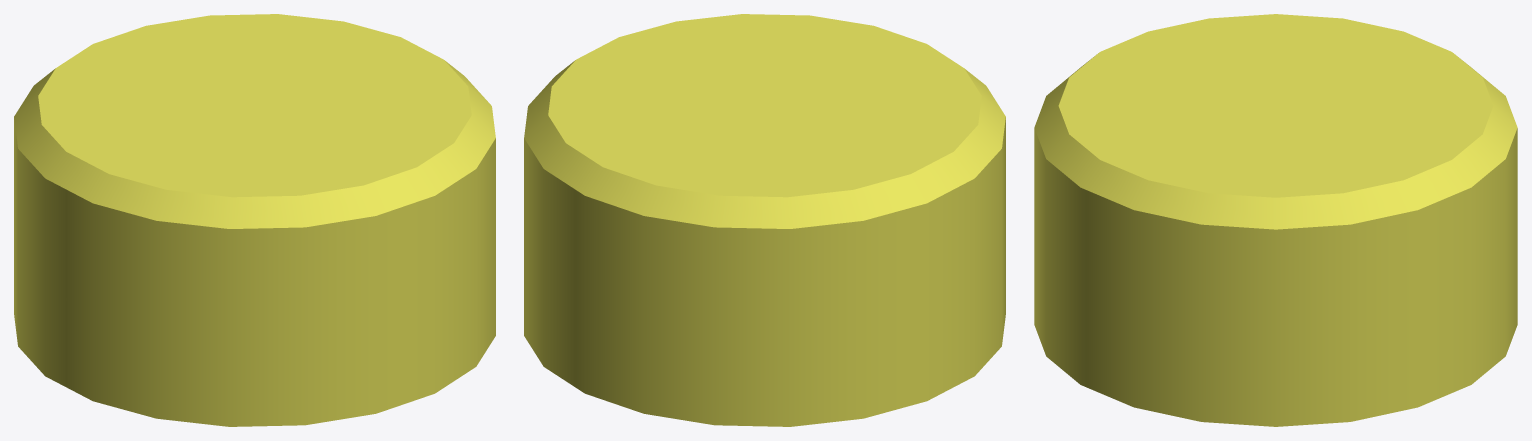
File: BtnCir01.fbx
The picture shows the model from 3 angles, left to right: view 1: azimuth 30°, elevation 25°; view 2: azimuth 150°, elevation 25°; view 3: azimuth 270°, elevation 25°; orthographic projection.
Visible parts, largest first — view 1: BtnCir01; view 2: BtnCir01; view 3: BtnCir01.
Boxes of the visible parts, x1,y1,x2,y2 form: BtnCir01: (14,14,495,426); BtnCir01: (524,14,1005,426); BtnCir01: (1034,14,1517,426).
Size of the model in its own units: 2 by 1 by 2.
